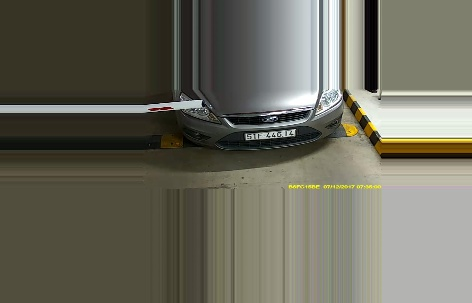plate: (242, 129, 297, 142)
